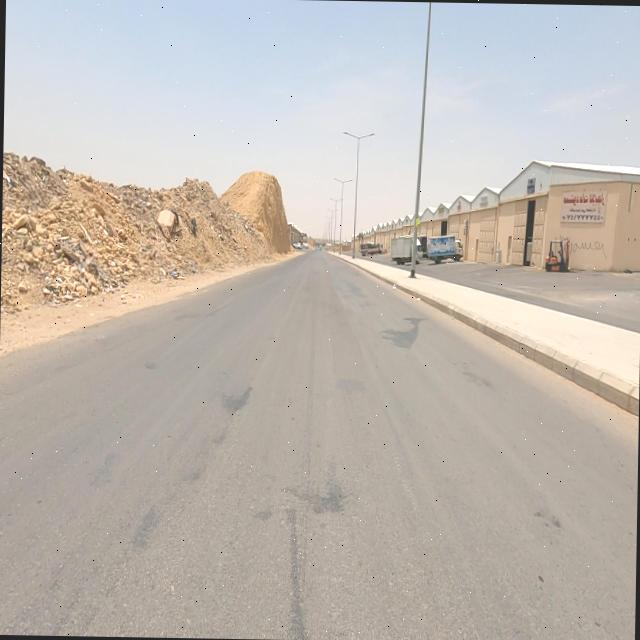Graffiti: (572, 240, 609, 260), (555, 236, 571, 242)
